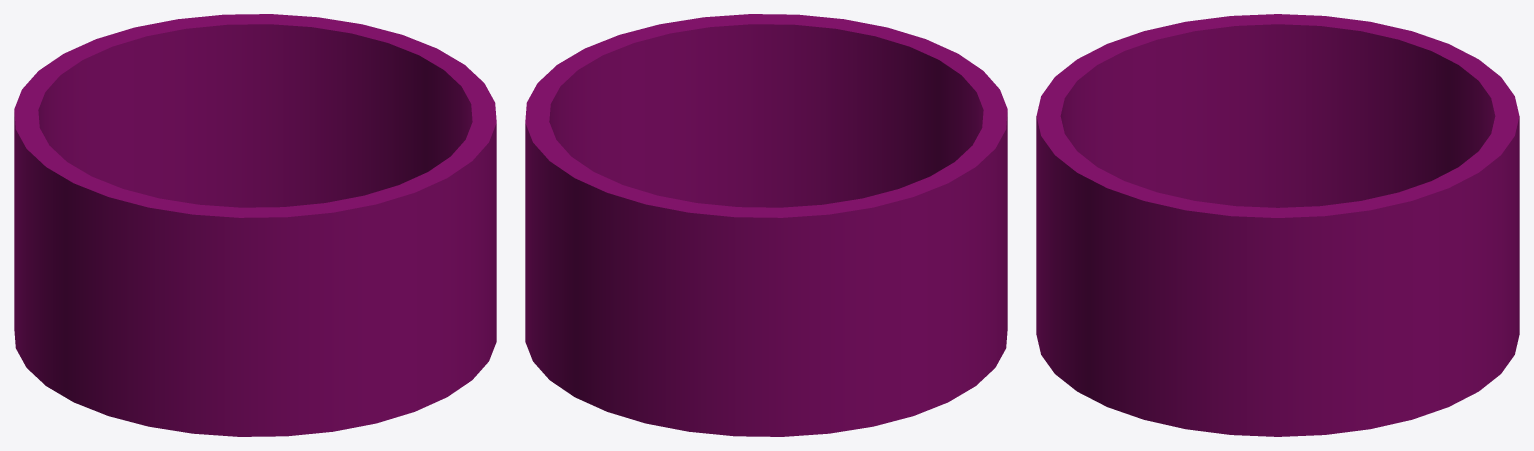
File: unit_tube.DAE
The picture shows the model from 3 angles, left to right: view 1: azimuth 30°, elevation 25°; view 2: azimuth 150°, elevation 25°; view 3: azimuth 270°, elevation 25°; orthographic projection.
Parts seen in each view (by area): view 1: Tube01; view 2: Tube01; view 3: Tube01.
Part boxes in pixels (left/top/right/bottom): Tube01: left=14, top=14, right=496, bottom=436; Tube01: left=525, top=14, right=1007, bottom=436; Tube01: left=1036, top=14, right=1519, bottom=436.
Size of the model in its own units: 2 by 2 by 1.
